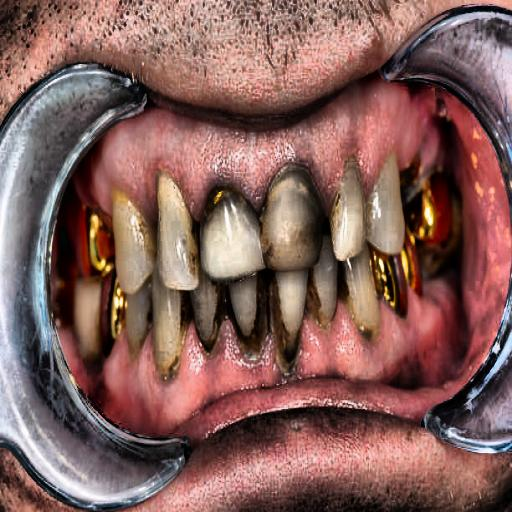Calculus: (167, 176, 380, 397), (106, 177, 161, 268)
